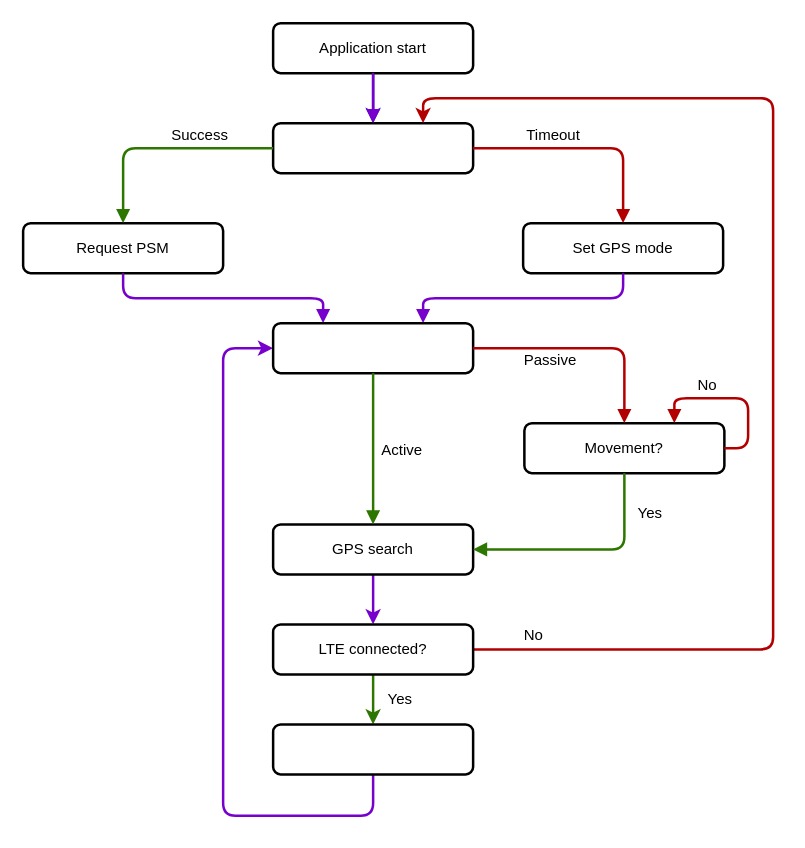
Some shapes in this 805 by 848 pixel diagram are drawn without their labels. Each missing label, with the centre of its shape:
Check mode: (372,347)
LTE connecting: (372,147)
Publish to Cloud: (372,748)
